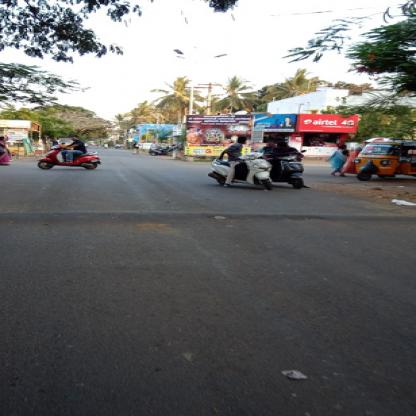speed-bumps: (0, 205, 414, 231)
